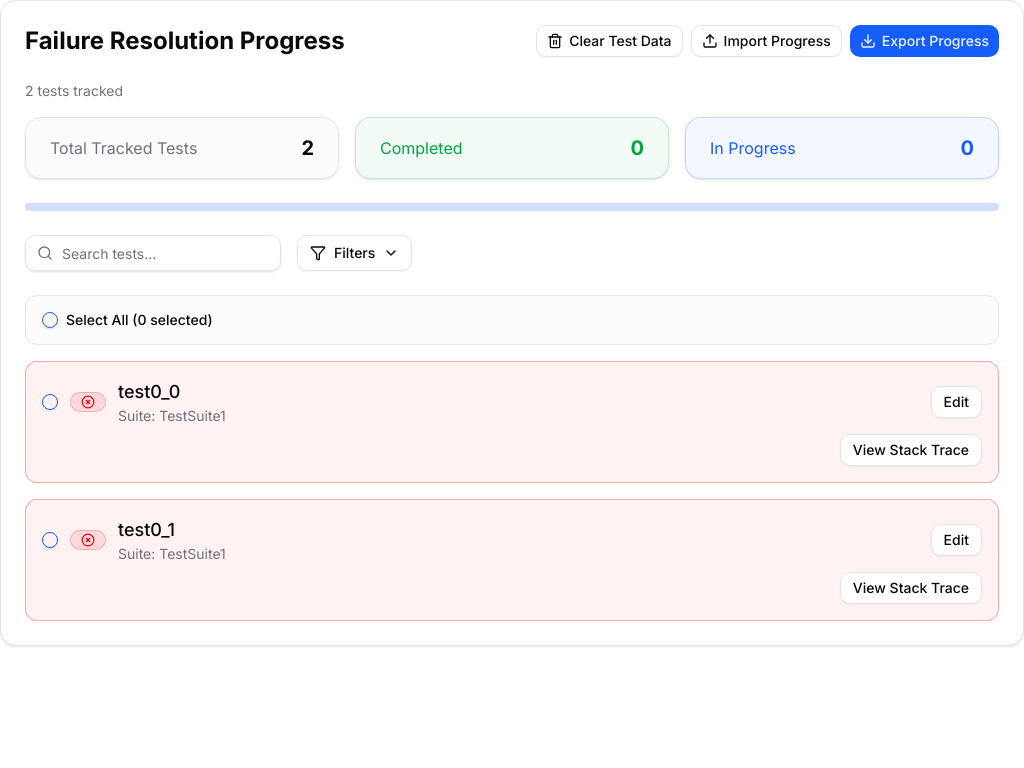
FailureAnalysisProgress › Bulk Actions › should clear selection after bulk update
// Select all tests
Click the checkbox named "select all" at (50, 320), box [42, 312, 58, 328]
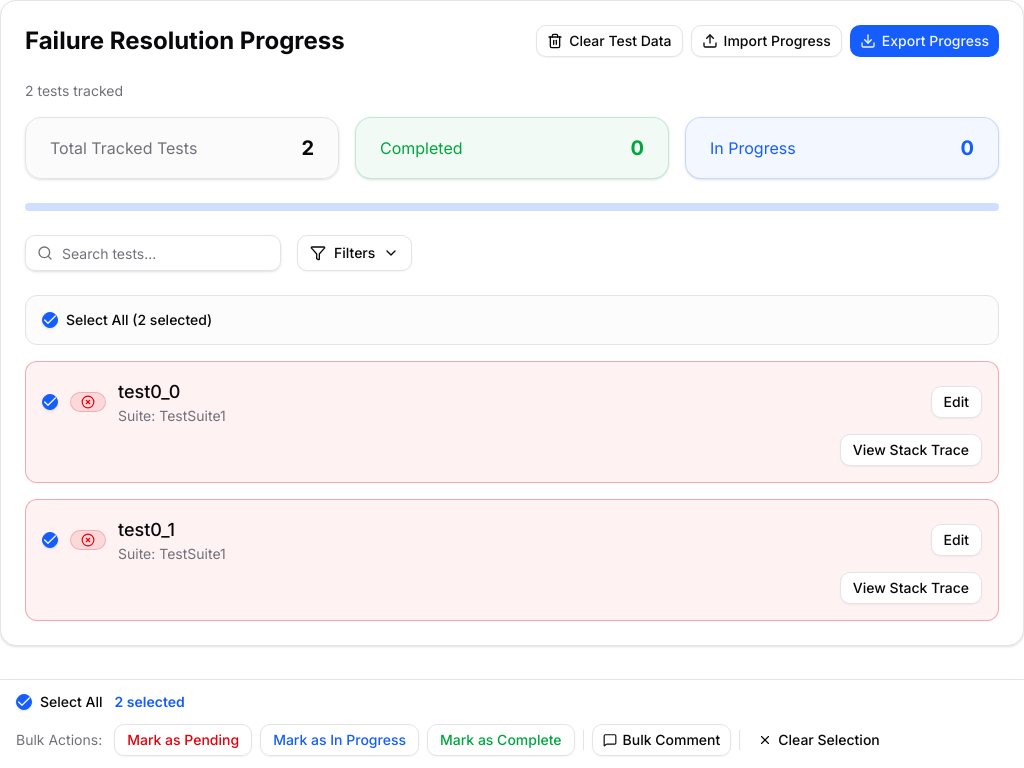
Expected: the text "Select All (2 selected)" is shown, [42, 312, 212, 328]
// Perform bulk update
Click the button "Mark as Complete" at (501, 740), box [427, 724, 575, 756]
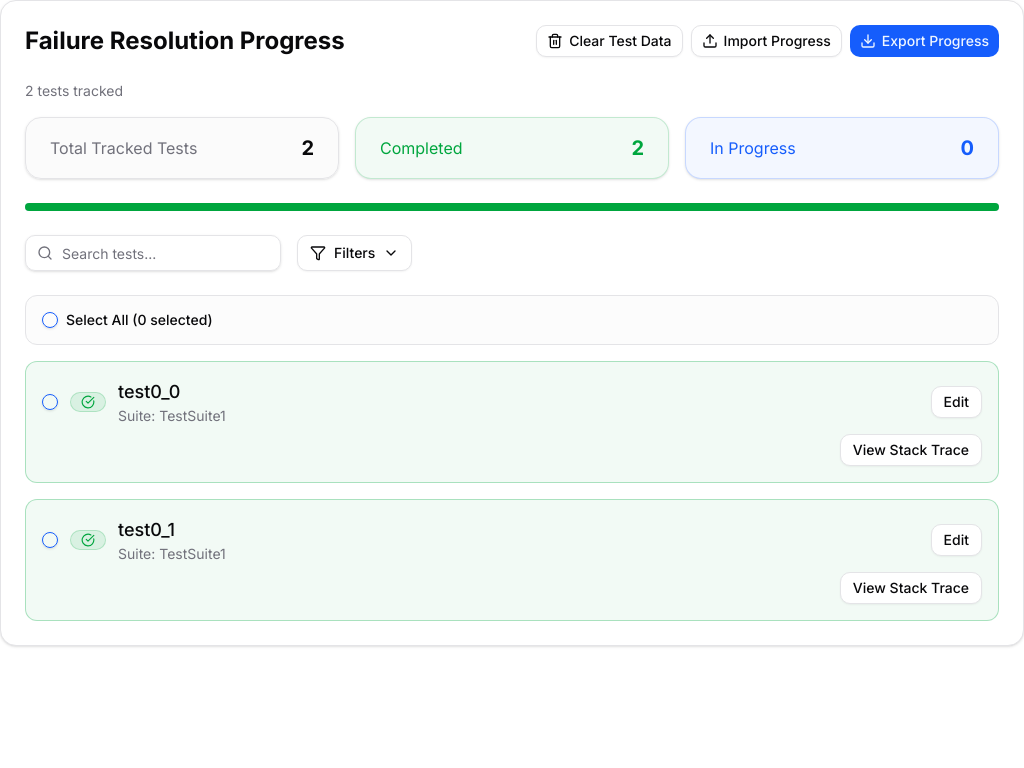
Expected: the text "Select All (0 selected)" is shown, [42, 312, 213, 328]
Expected: the text "Bulk Actions:" is gone
